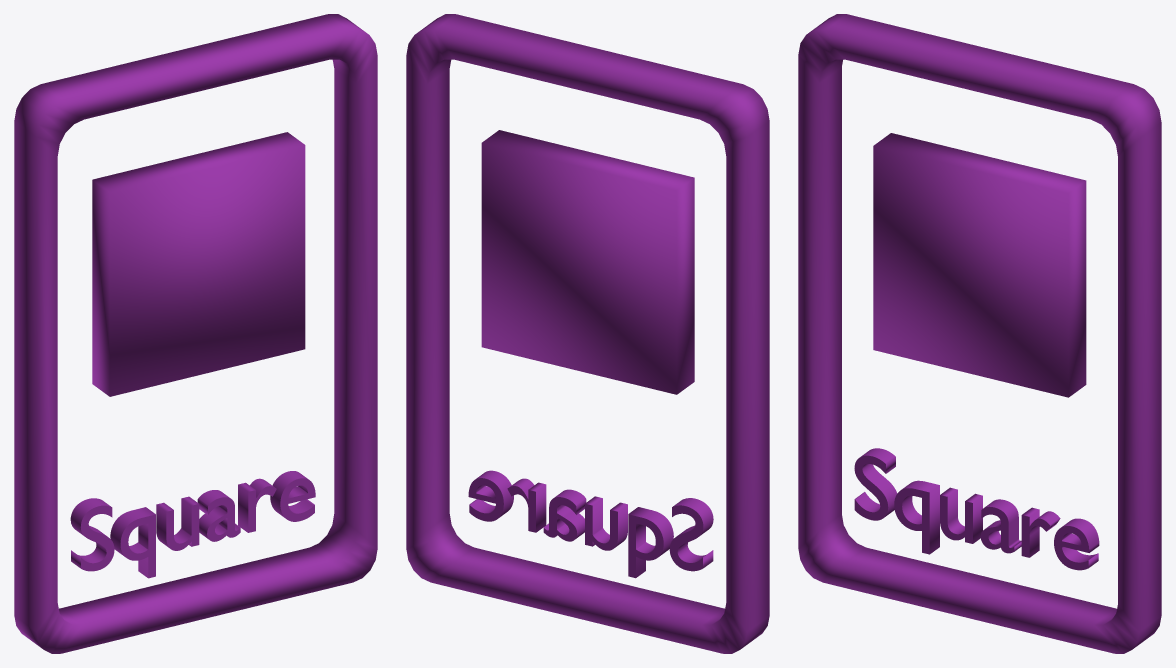
File: Shape_Square.gltf
The picture shows the model from 3 angles, left to right: view 1: azimuth 30°, elevation 25°; view 2: azimuth 150°, elevation 25°; view 3: azimuth 330°, elevation 25°; orthographic projection.
Parts seen in each view (by area): view 1: Text.014; view 2: Text.014; view 3: Text.014.
Boxes of the visible parts, x1,y1,x2,y2 form: Text.014: (14,14,377,653); Text.014: (406,14,769,653); Text.014: (798,14,1161,653).
Bounding box in the file's own units: 1 × 1.56 × 0.1143.
